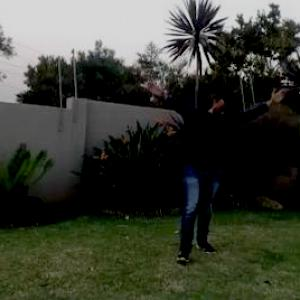takeoff: (143, 69, 281, 269)
